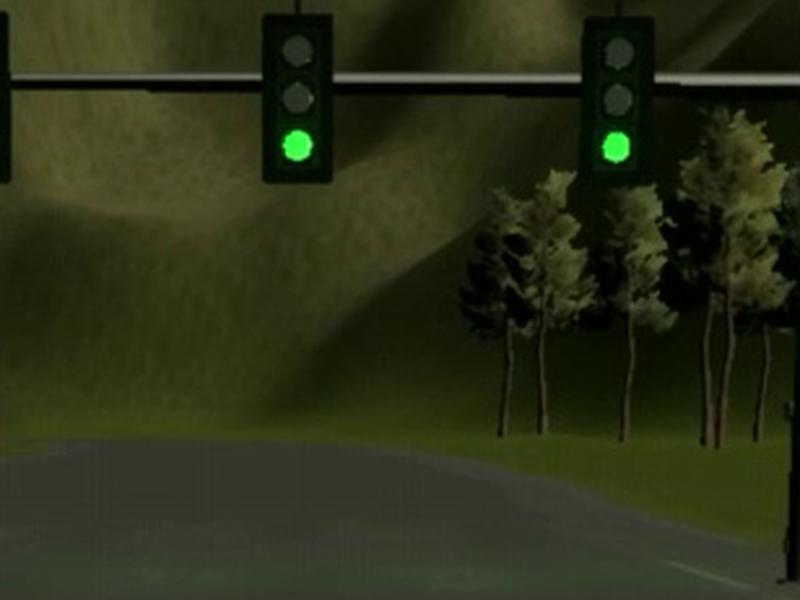Green: (578, 15, 653, 186), (263, 13, 334, 184)
